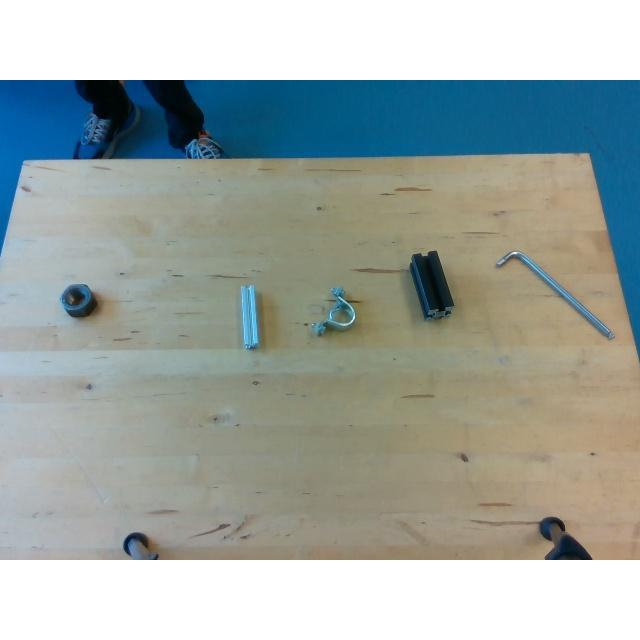AllenKey: (496, 251, 616, 341)
F20_20_G: (240, 284, 260, 348)
Housing: (308, 286, 357, 334)
M30: (62, 284, 98, 316)
S40_40_B: (409, 250, 453, 318)
